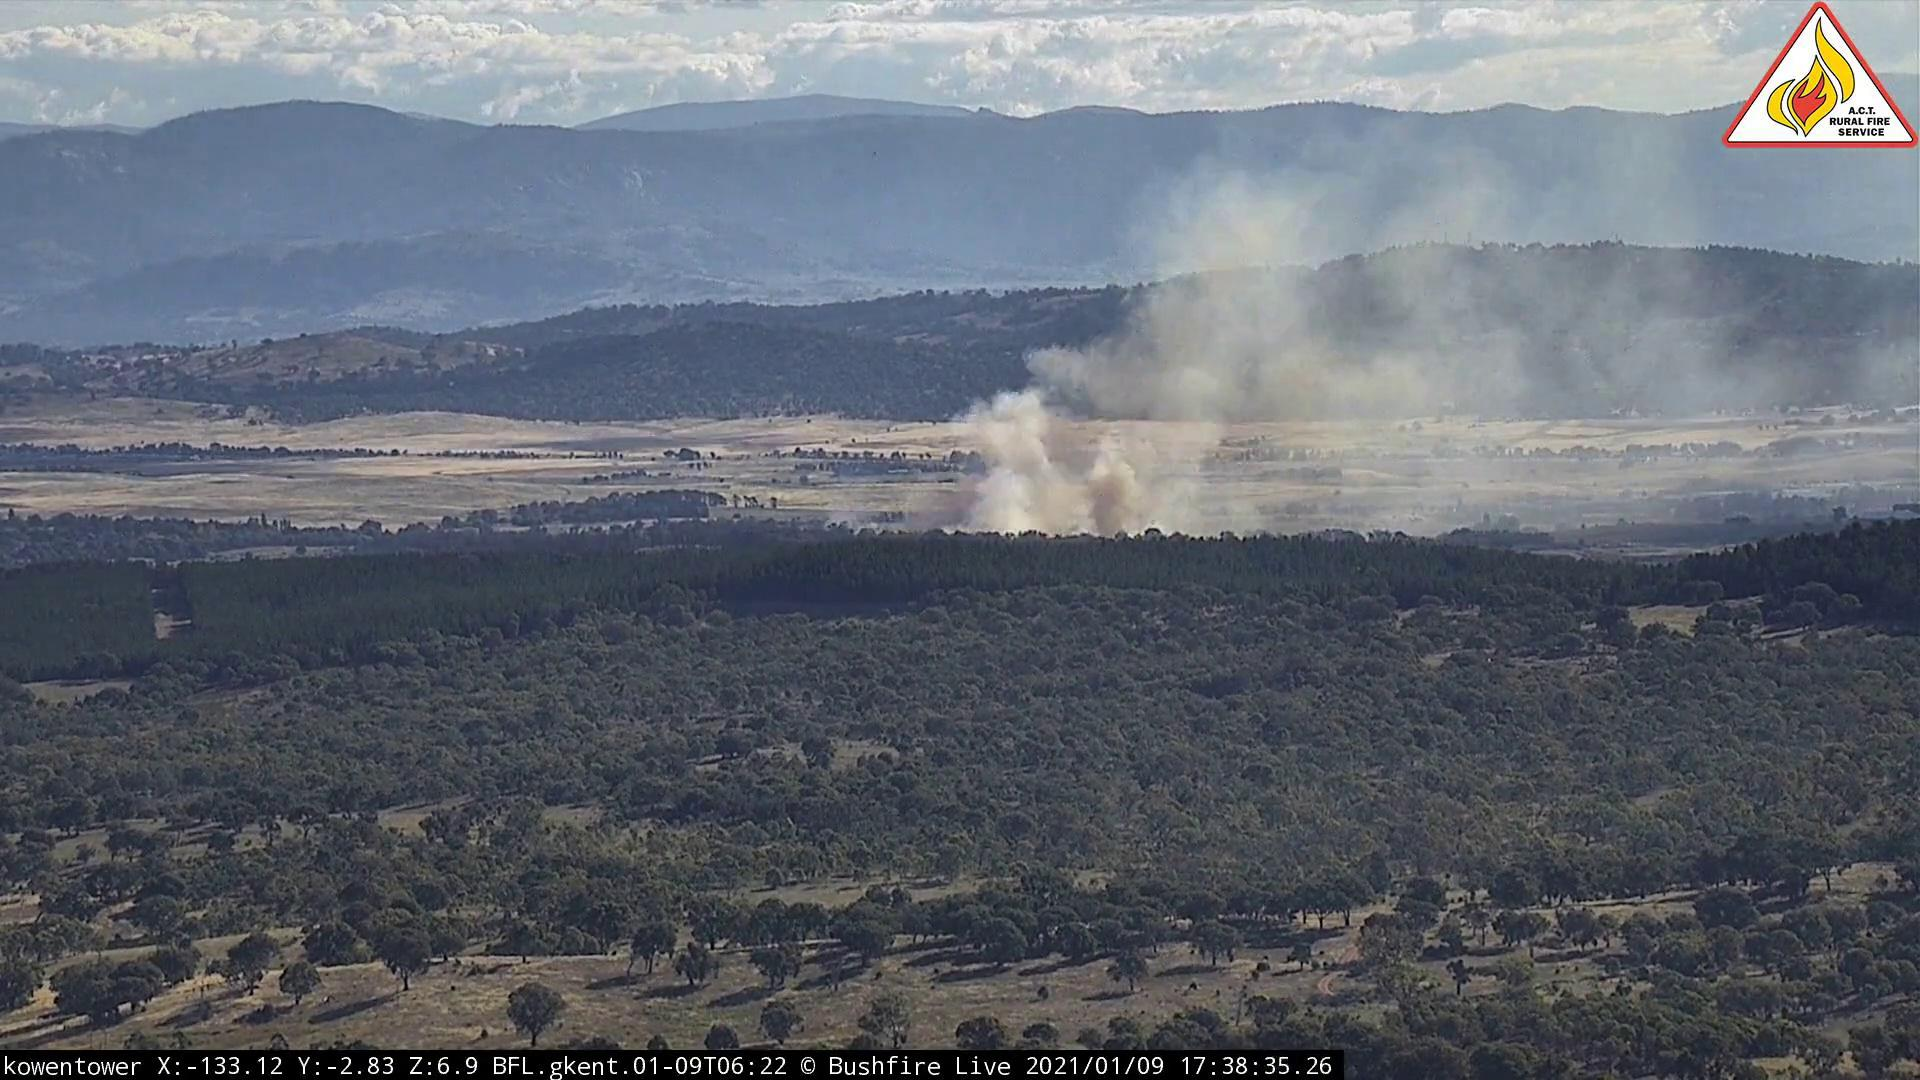Smoke: (844, 158, 1920, 547)
